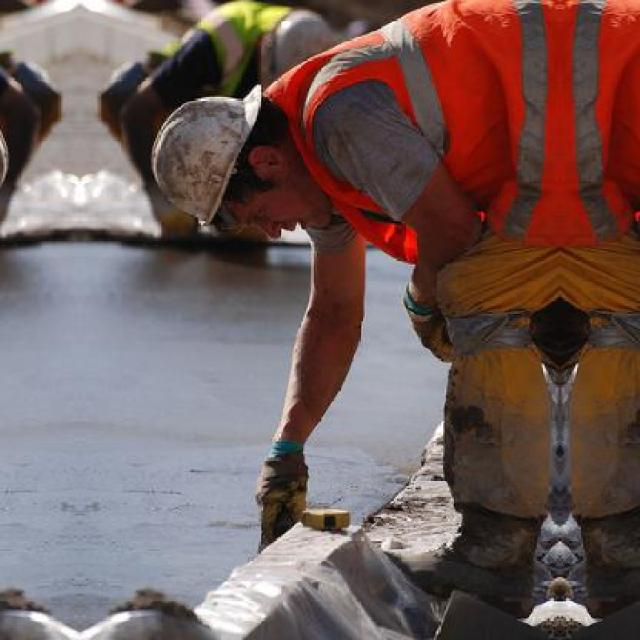helmet: (115, 45, 387, 269)
